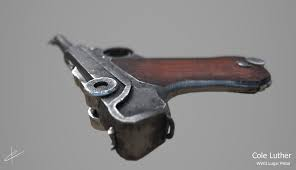gun: (49, 30, 274, 161)
